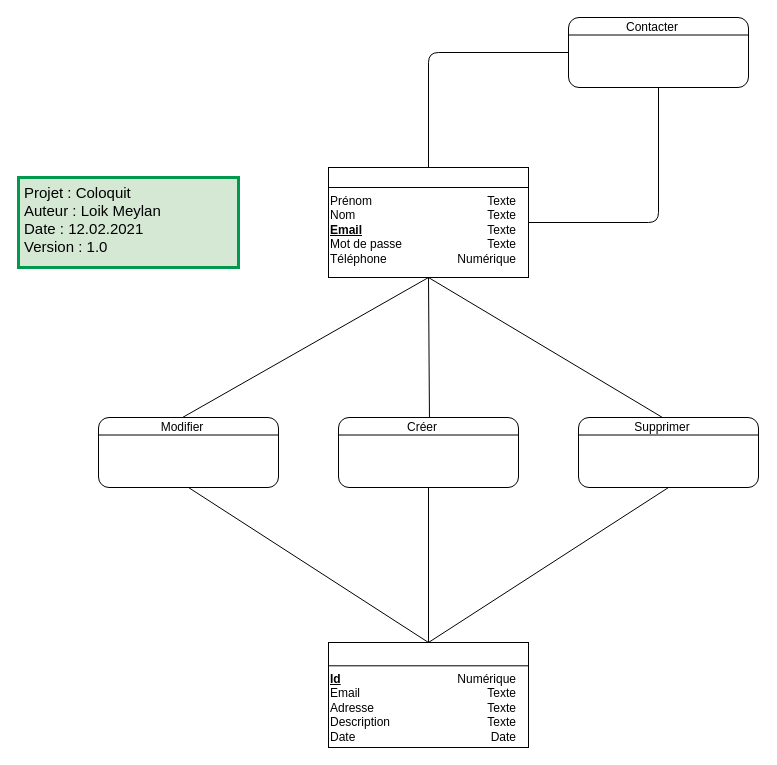
This 777x765 diagram has some shape labels left out. Each missing label, with the box of its shape:
membres: (328, 166, 528, 188)
propositions: (328, 642, 528, 666)
